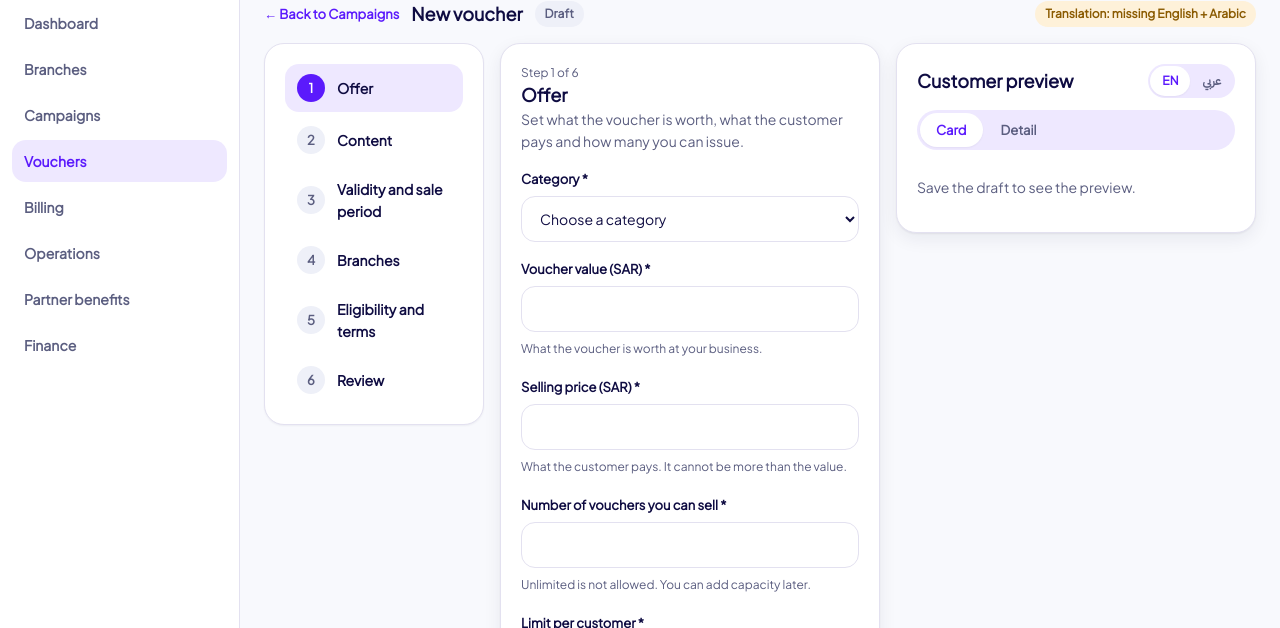
Test case: voucher builder › shows the reported savings live, and refuses a price above the value before anything is saved
The image size is (1280, 628).
Type "100" into the number field labelled "Voucher value (SAR) *".
click(690, 309); type("100")  # box x1=521 y1=286 x2=859 y2=332
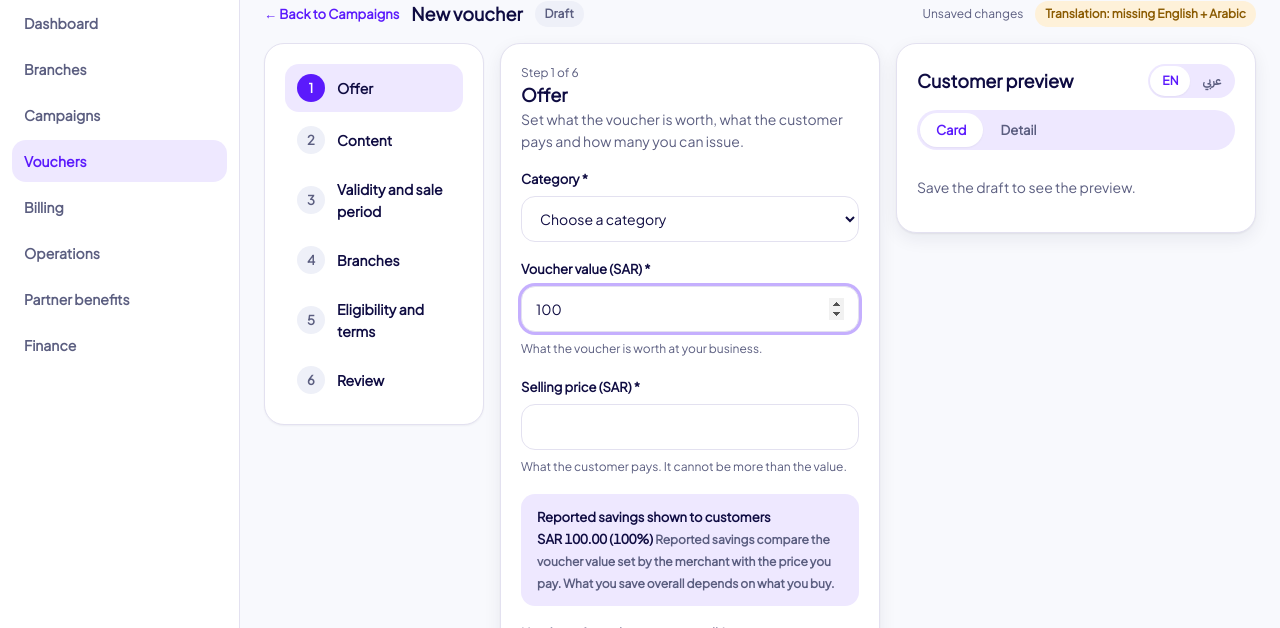
Type "120" into the number field labelled "Selling price (SAR) *".
click(690, 427); type("120")  # box x1=521 y1=404 x2=859 y2=450
(page scrolled)
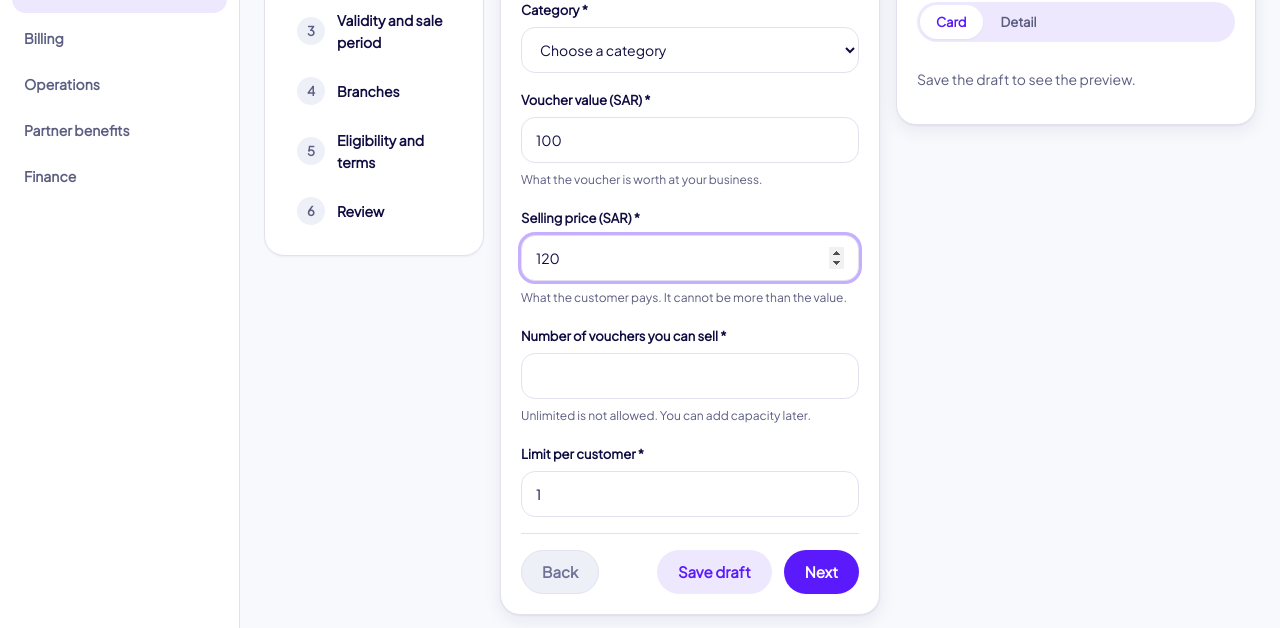
Expected: the text with test id "builder-savings" is gone
Click the button with test id "builder-next".
click(821, 572)  # box x1=784 y1=550 x2=859 y2=594
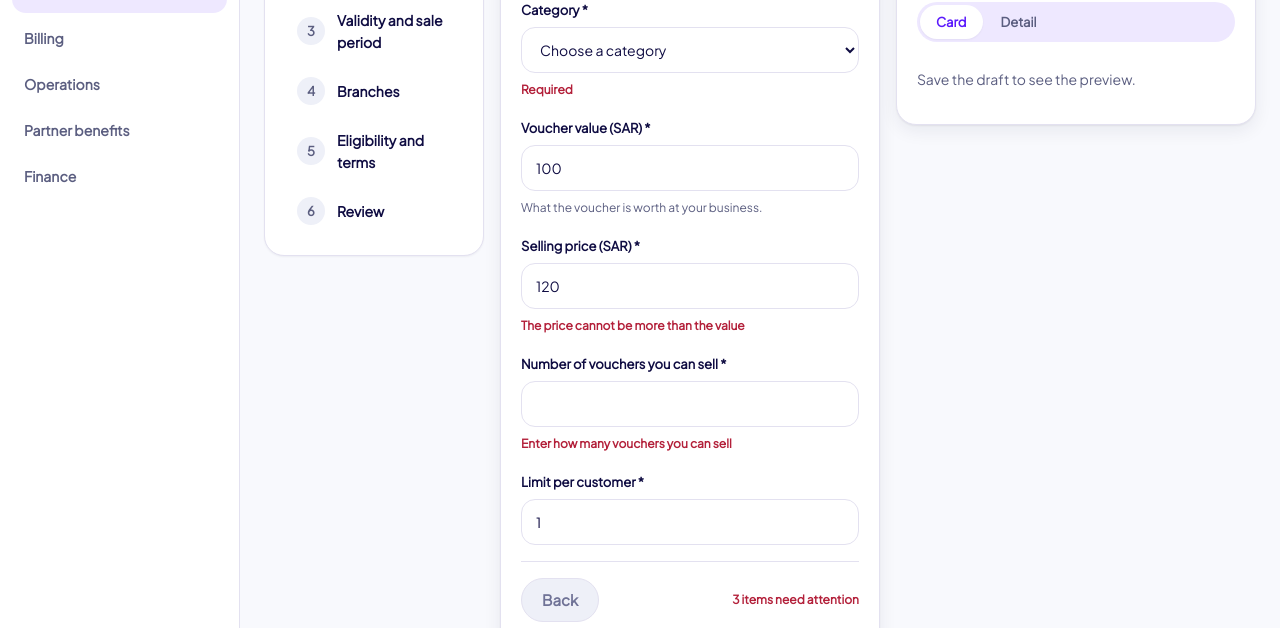
Expected: the text "The price cannot be more than the value" is shown, x1=521 y1=318 x2=745 y2=333
Replace the text in the number field labelled "Selling price (SAR) *" with "80" at (690, 286), box x1=521 y1=263 x2=859 y2=309
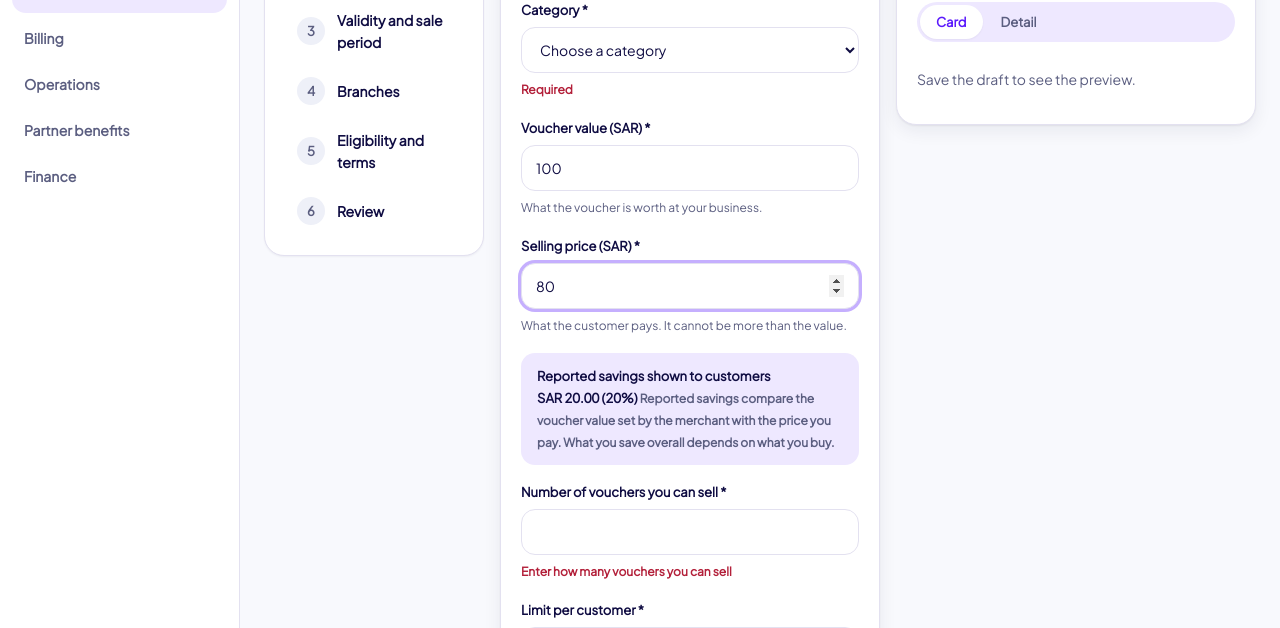
Expected: the text with test id "builder-savings" reads "SAR 20.00 (20%)", x1=537 y1=390 x2=638 y2=406
